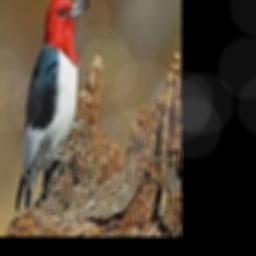Woodpecker: (15, 0, 89, 212)
